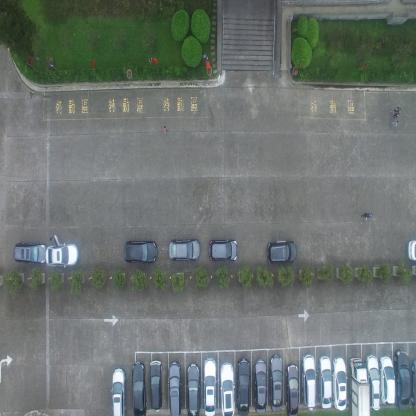car: (348, 356, 370, 415), (393, 348, 410, 411), (300, 353, 316, 412), (364, 352, 380, 411), (45, 242, 79, 269), (122, 239, 158, 264), (166, 361, 182, 416), (378, 354, 395, 405), (167, 236, 200, 262), (131, 362, 147, 415), (219, 362, 235, 415), (332, 355, 347, 411), (265, 239, 297, 265), (148, 360, 164, 412), (236, 356, 250, 415), (269, 353, 283, 412), (317, 354, 332, 409), (13, 241, 47, 265), (185, 362, 200, 416), (253, 358, 267, 413), (111, 367, 127, 415), (203, 358, 216, 416), (208, 237, 238, 262), (284, 363, 298, 415), (410, 358, 416, 407), (407, 236, 416, 263)
